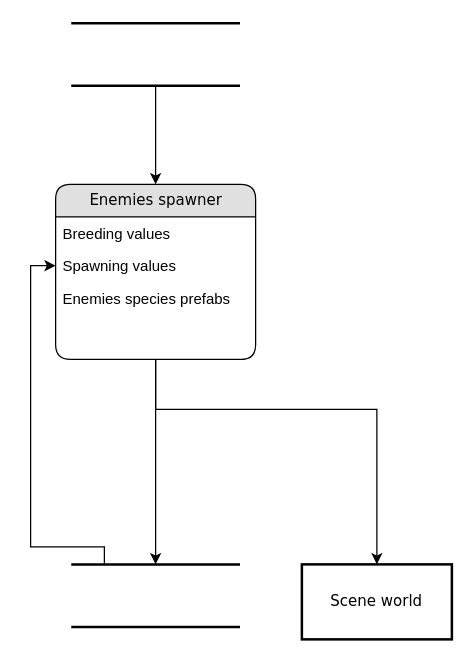
The diagram is 475 pixels wide and 661 high, and some of its shapes have lost their labels. The box of each missing label's shape, as (x1, y1, x2, y2) in pixels:
Enemies pool: (69, 562, 241, 628)
Game time: (69, 21, 241, 86)
